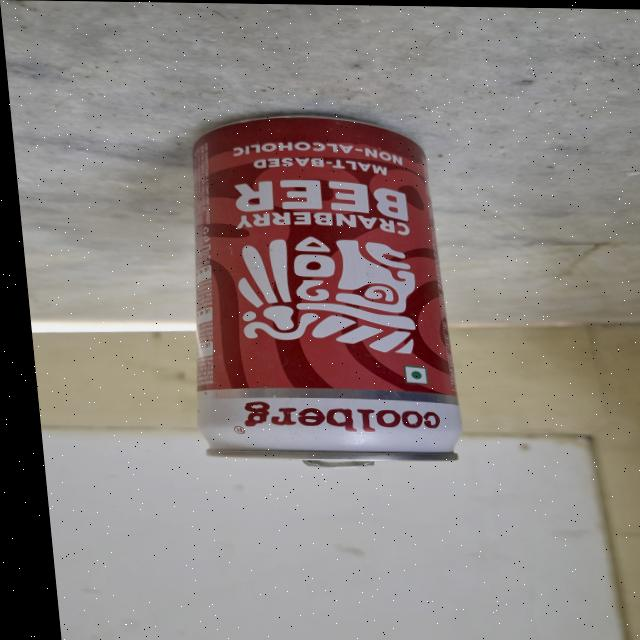Coolberg: (185, 130, 451, 462)
